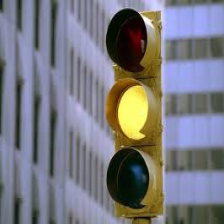semaforo: (106, 7, 164, 218)
